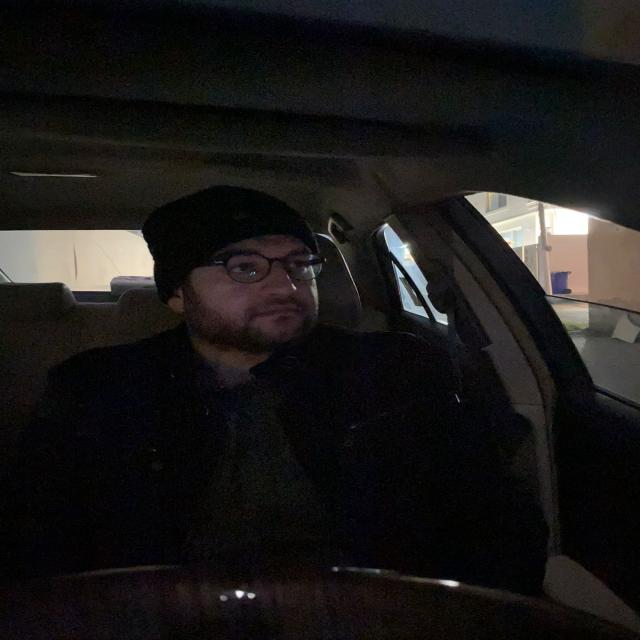person: (150, 202, 340, 356)
